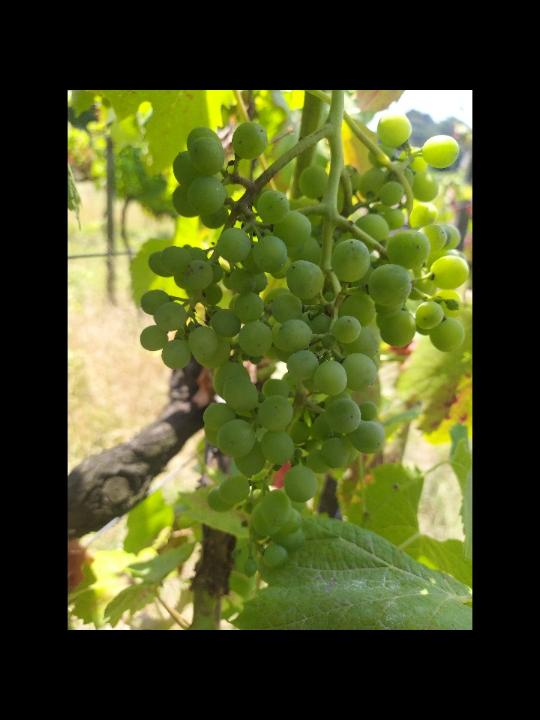grape: (140, 110, 468, 583)
